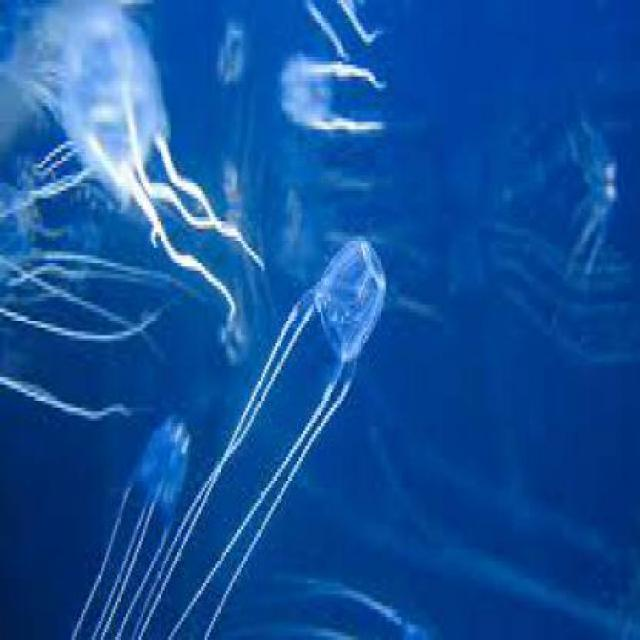Jellyfish: (83, 225, 386, 638)
